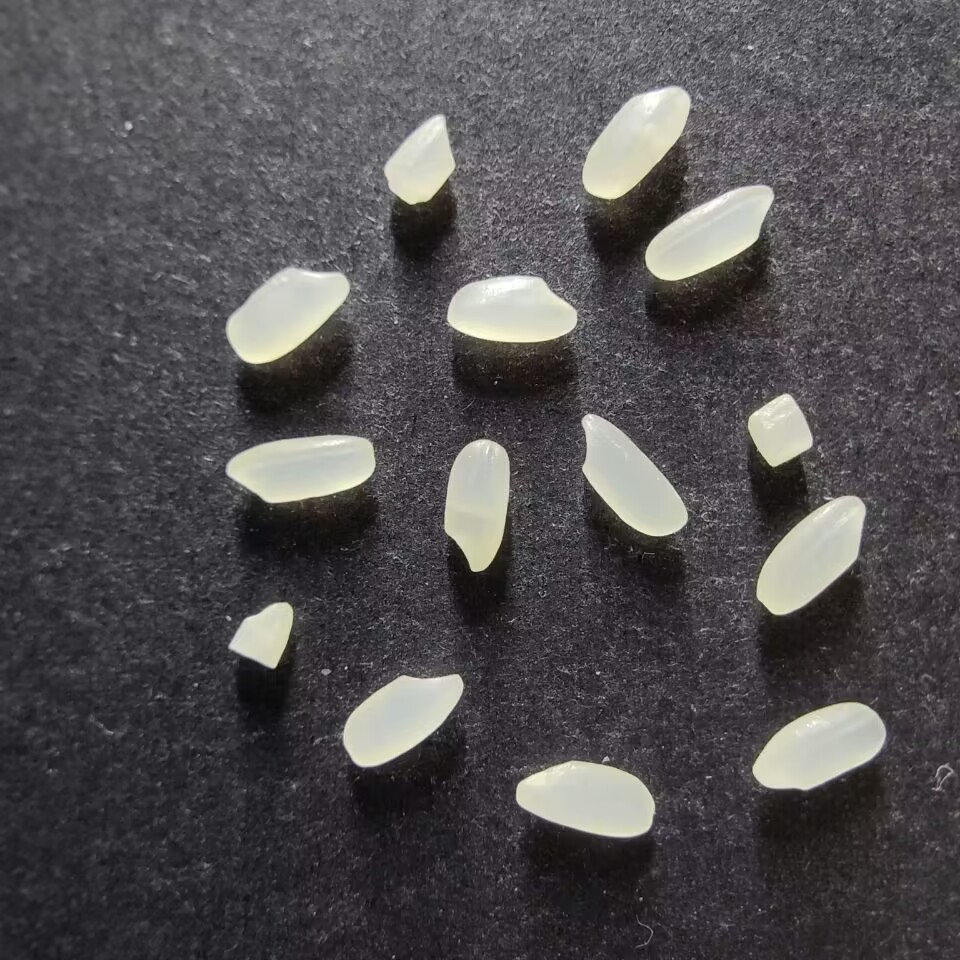broken: (382, 113, 455, 207), (746, 393, 815, 468), (228, 600, 294, 669)
rice: (754, 494, 867, 616), (580, 412, 688, 539), (644, 181, 775, 281), (580, 86, 691, 199), (750, 701, 887, 791), (225, 265, 349, 364), (341, 672, 464, 768), (514, 759, 655, 838), (224, 434, 375, 503), (442, 439, 511, 573), (445, 275, 578, 344)
